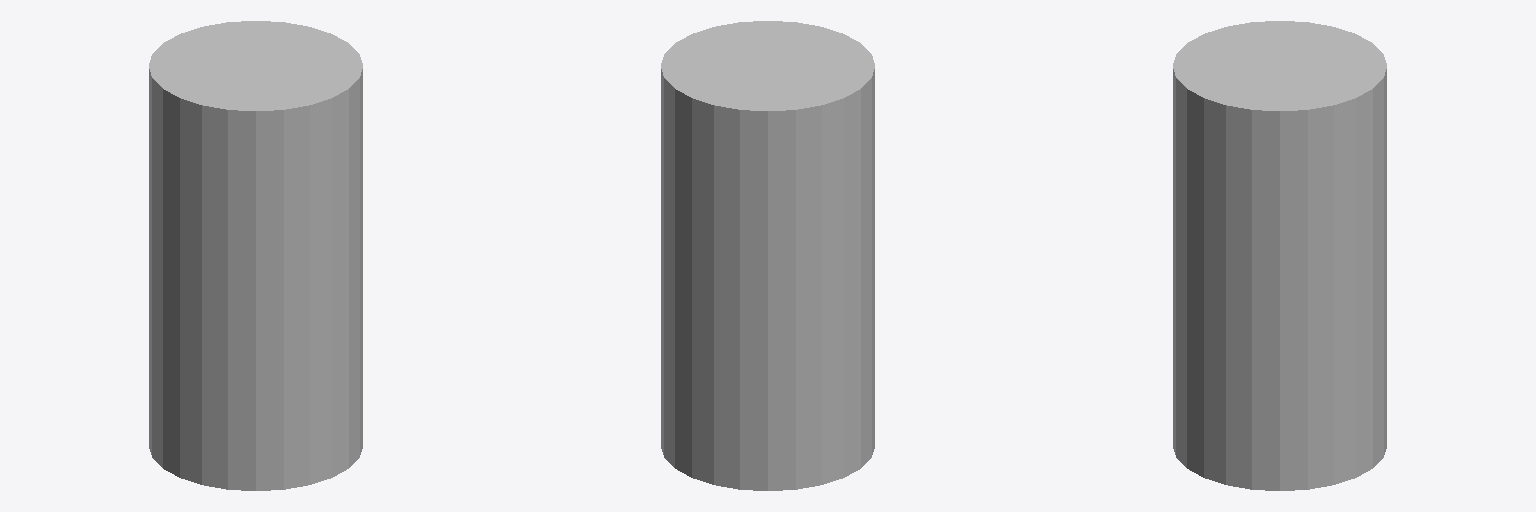
Rendered from original-23.obj.
3 renders of one model, left to right at view 1: azimuth 30°, elevation 25°; view 2: azimuth 150°, elevation 25°; view 3: azimuth 270°, elevation 25°, orthographic.
Visible parts, largest first — view 1: mesh65/mesh65-geometry#mesh65-geometry; view 2: mesh65/mesh65-geometry#mesh65-geometry; view 3: mesh65/mesh65-geometry#mesh65-geometry.
Boxes of the visible parts, box(x1,y1,x2,y2) form: mesh65/mesh65-geometry#mesh65-geometry: box(149, 21, 362, 490); mesh65/mesh65-geometry#mesh65-geometry: box(661, 21, 874, 490); mesh65/mesh65-geometry#mesh65-geometry: box(1173, 21, 1386, 490).
Size of the model in its own units: 0.0087 by 0.0169 by 0.0087.